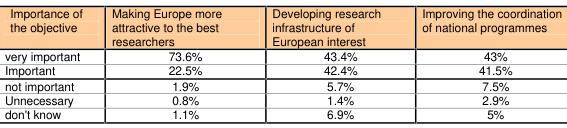table: (3, 4, 561, 121)
table column: (400, 4, 561, 121), (246, 4, 400, 121), (96, 4, 246, 121), (3, 4, 96, 121)
table column header: (3, 4, 561, 47)
table row: (3, 4, 561, 47), (3, 47, 561, 62), (3, 62, 561, 77), (3, 77, 561, 92), (3, 106, 561, 121), (3, 92, 561, 106)
